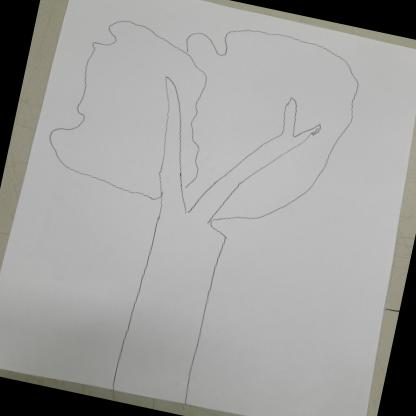branch_sharp: (129, 66, 327, 250)
crown_dizzy: (36, 0, 371, 243)
trunk_straight: (121, 237, 224, 366)
